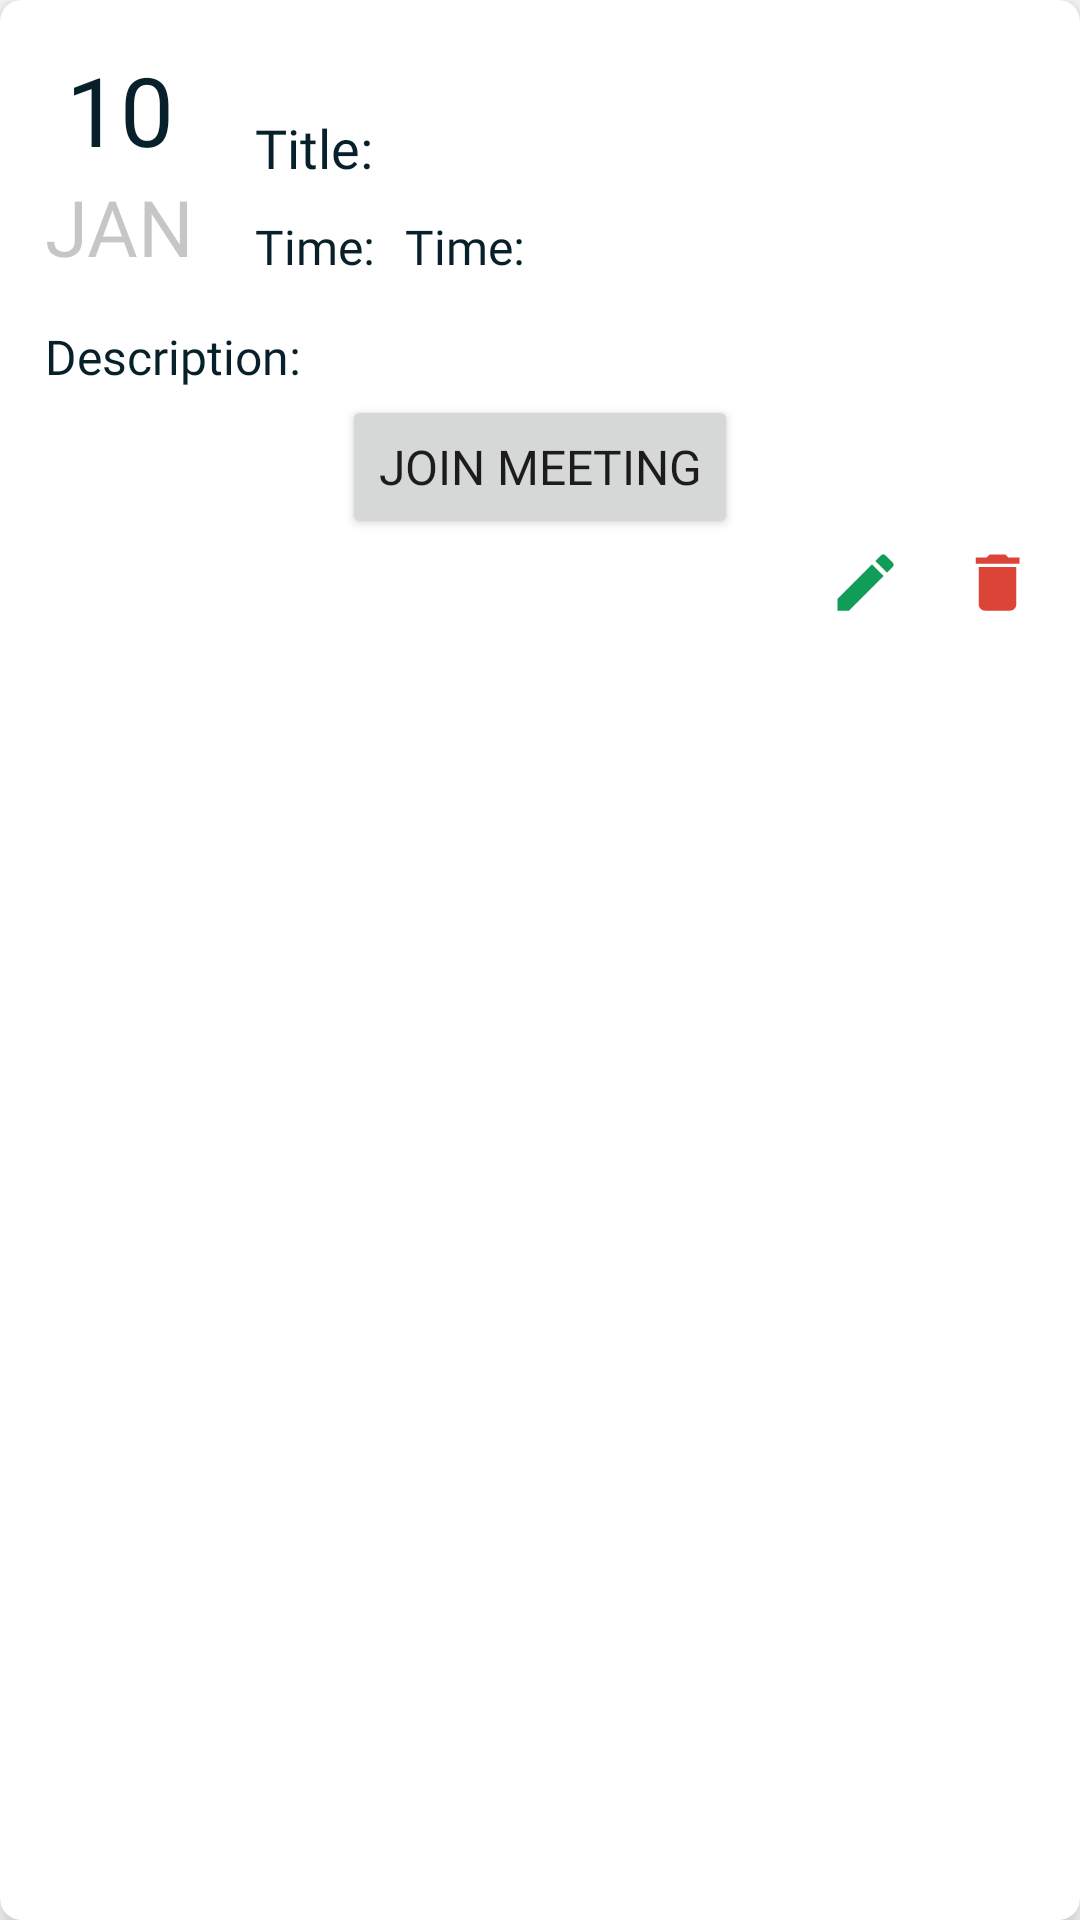

Icon click points for this 1080 x 1920 phone screenshot, format point (x, y):
delete: point (997, 582)
edit: point (865, 582)
